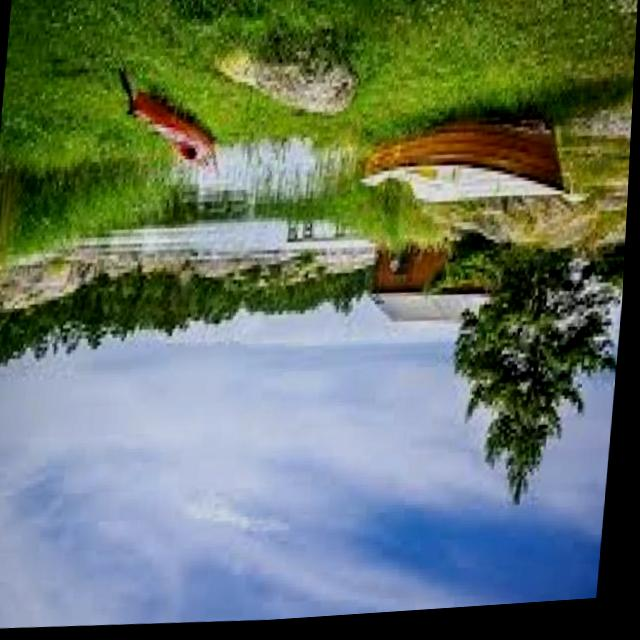ship2: (365, 119, 570, 207)
